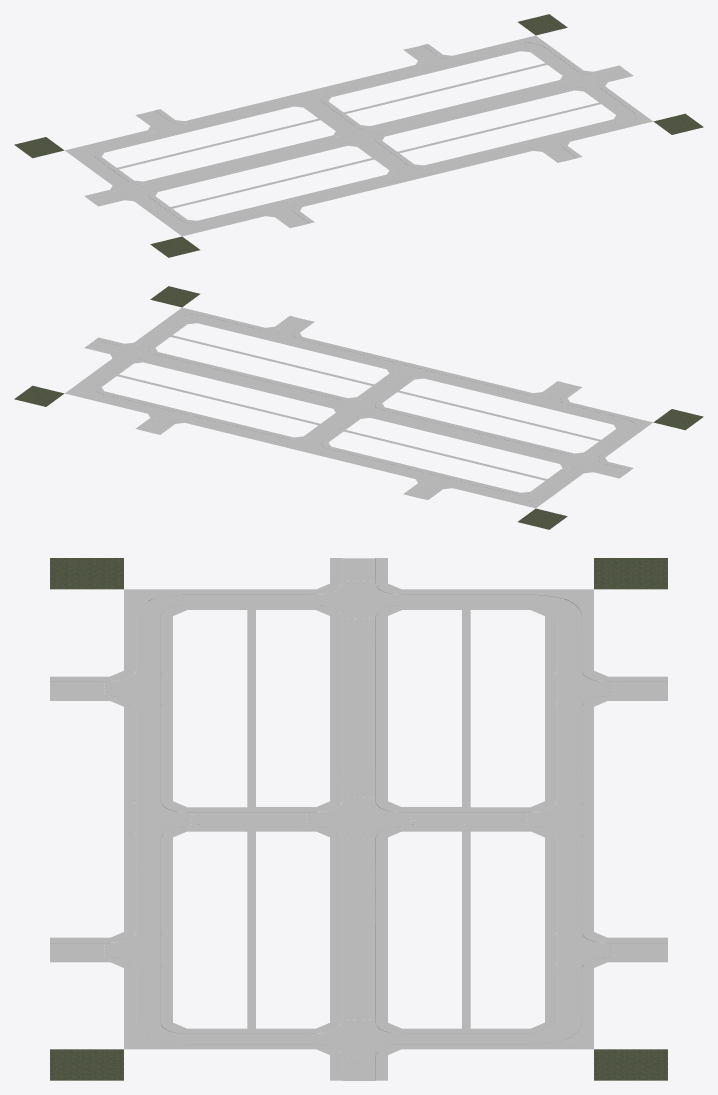
File: Double-Block-02-B.fbx
3 views of the same model, one above another, from view 1: azimuth 30°, elevation 25°; view 2: azimuth 150°, elevation 25°; view 3: azimuth 270°, elevation 25° (orthographic). The views are drawn at different scales.
Visible parts, largest first — view 1: Double-Block-04-Sidewalk-B, Double-Block-04-B, Double-Block-04, Double-Block-04-C, Double-Block-04-Sidewalk, Double-Block-04-Sidewalk-C; view 2: Double-Block-04-Sidewalk-B, Double-Block-04-B, Double-Block-04, Double-Block-04-C, Double-Block-04-Sidewalk, Double-Block-04-Sidewalk-C; view 3: Double-Block-04-B, Double-Block-04, Double-Block-04-C, Double-Block-04-Sidewalk-B, Double-Block-04-Sidewalk, Double-Block-04-Sidewalk-C.
Boxes of the visible parts, x1,y1,x2,y2 form: Double-Block-04-Sidewalk-B: [193, 67, 524, 204]; Double-Block-04-B: [196, 69, 521, 202]; Double-Block-04: [409, 14, 703, 161]; Double-Block-04-C: [14, 110, 309, 257]; Double-Block-04-Sidewalk: [403, 35, 652, 162]; Double-Block-04-Sidewalk-C: [65, 109, 314, 236]; Double-Block-04-Sidewalk-B: [193, 339, 524, 476]; Double-Block-04-B: [196, 341, 521, 474]; Double-Block-04: [14, 286, 308, 433]; Double-Block-04-C: [408, 382, 703, 529]; Double-Block-04-Sidewalk: [65, 307, 314, 434]; Double-Block-04-Sidewalk-C: [403, 381, 652, 508]; Double-Block-04-B: [135, 715, 582, 923]; Double-Block-04: [50, 922, 667, 1080]; Double-Block-04-C: [50, 558, 667, 716]; Double-Block-04-Sidewalk-B: [124, 715, 593, 923]; Double-Block-04-Sidewalk: [50, 922, 667, 1080]; Double-Block-04-Sidewalk-C: [50, 558, 667, 716].
Size of what is drawn, in the model's own units: 600 by 0.1566 by 300.
